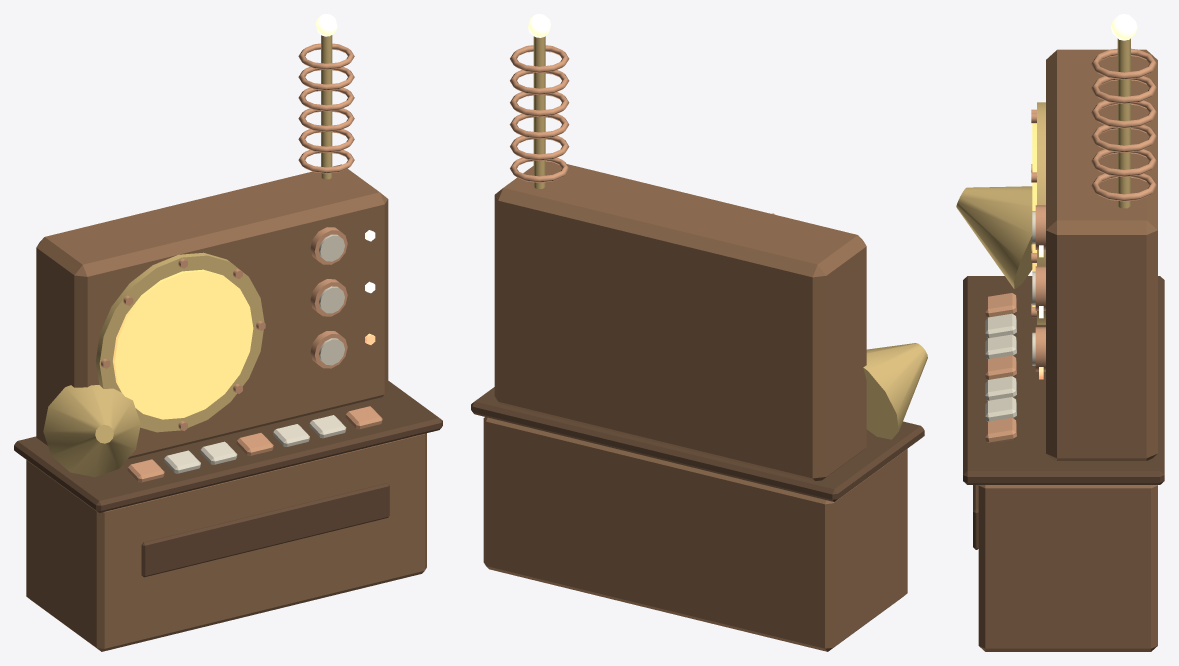
The model's file is hm_radio.glb.
The picture shows the model from 3 angles, left to right: view 1: azimuth 30°, elevation 25°; view 2: azimuth 150°, elevation 25°; view 3: azimuth 270°, elevation 25°; orthographic projection. The views are drawn at different scales.
Visible parts, largest first — view 1: hm_radio; view 2: hm_radio; view 3: hm_radio.
Part boxes in pixels (x1,y1,x2,y2): hm_radio: (14,14,442,651); hm_radio: (471,14,927,651); hm_radio: (956,14,1164,651).
Bounding box in the file's own units: 2.18 × 3.03 × 0.9294.
